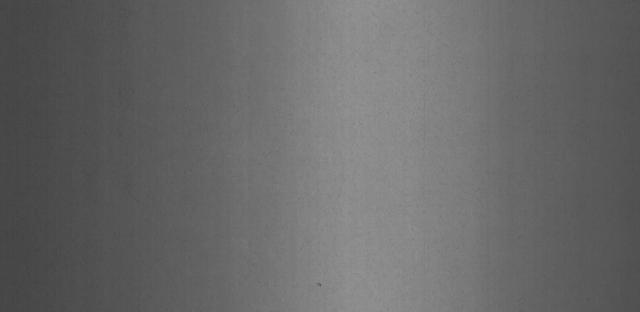inclusion: (312, 276, 327, 294)
